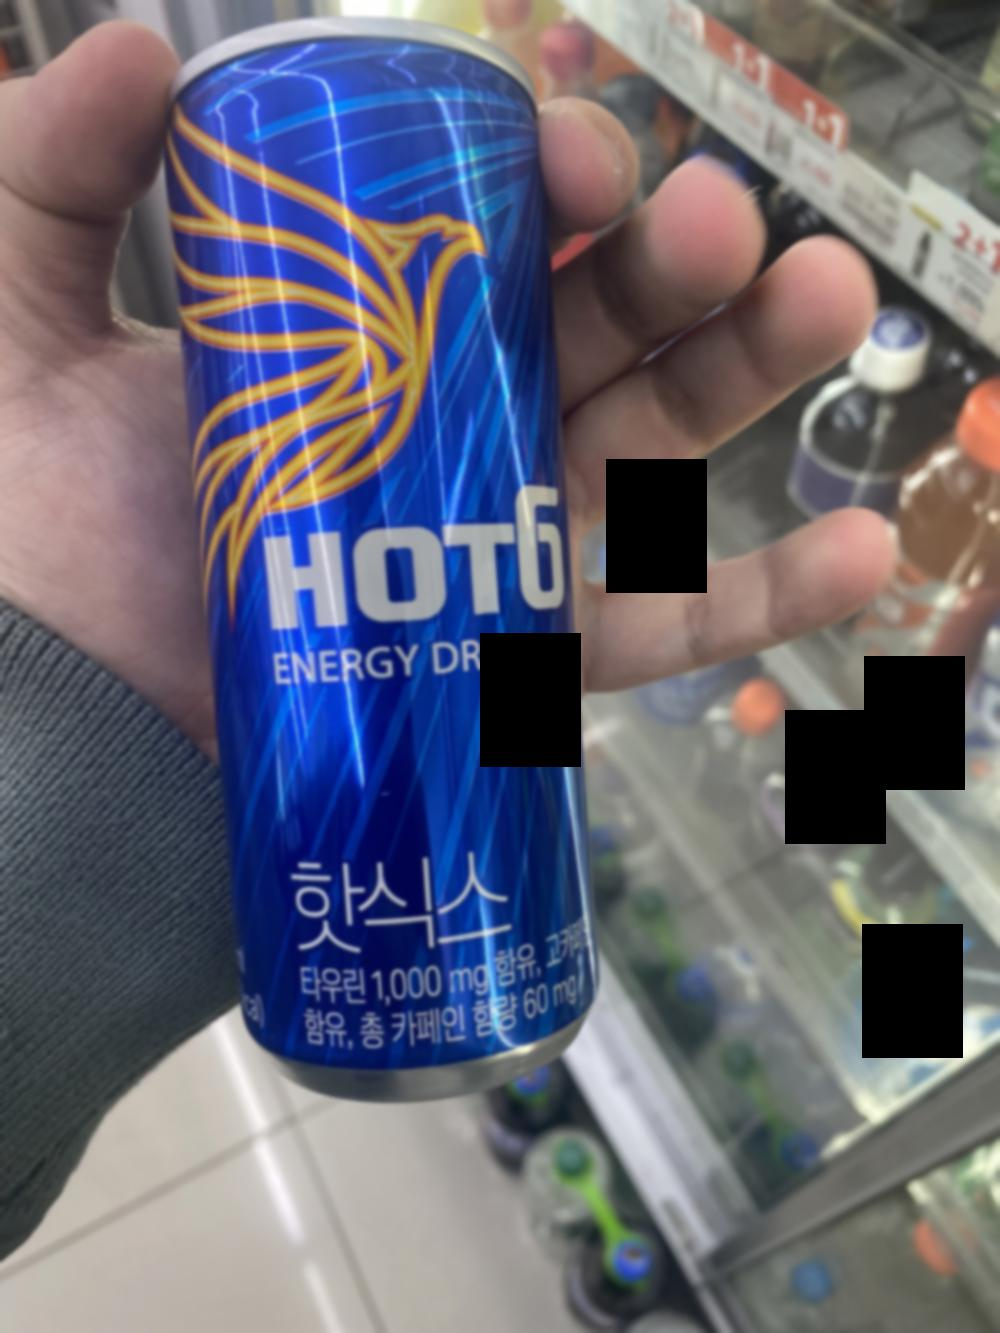hotsix_org: (158, 16, 608, 1094)
